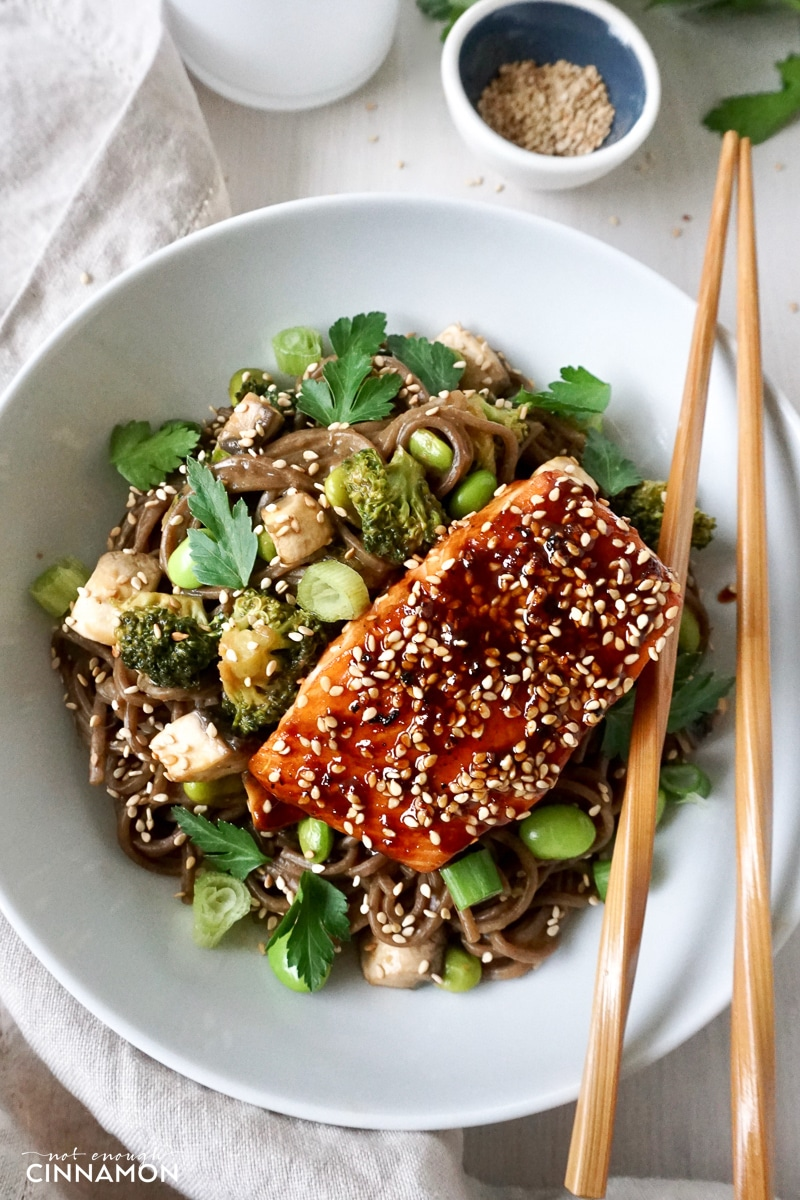Soba: (69, 296, 680, 1014)
